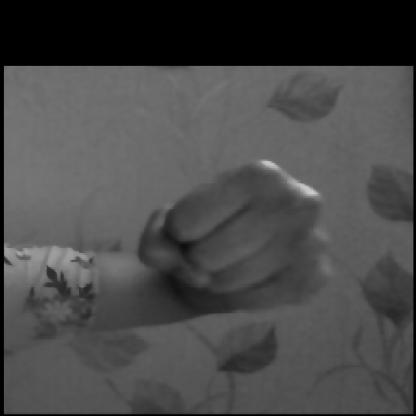fist: (95, 135, 342, 352)
